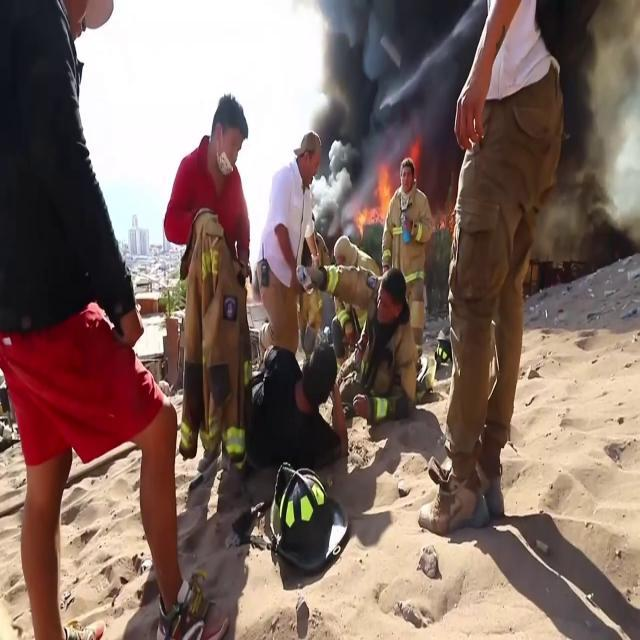Fire: (358, 160, 396, 233)
Smoke: (302, 1, 456, 220), (533, 0, 640, 257)
